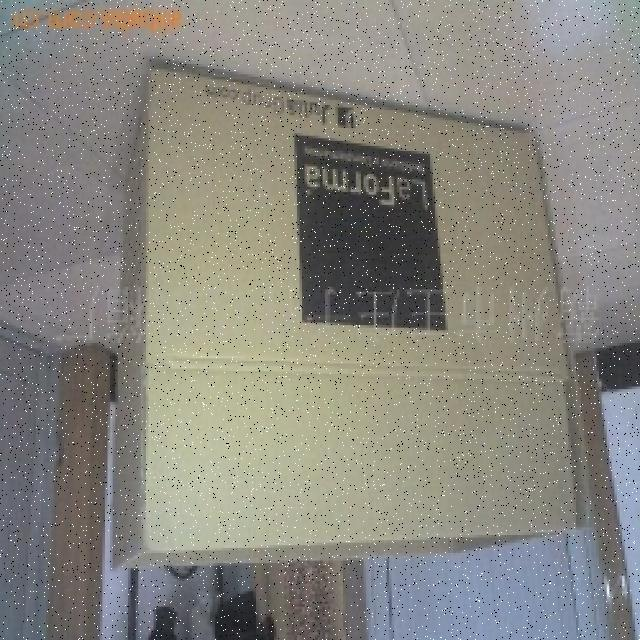box: (87, 48, 619, 558)
